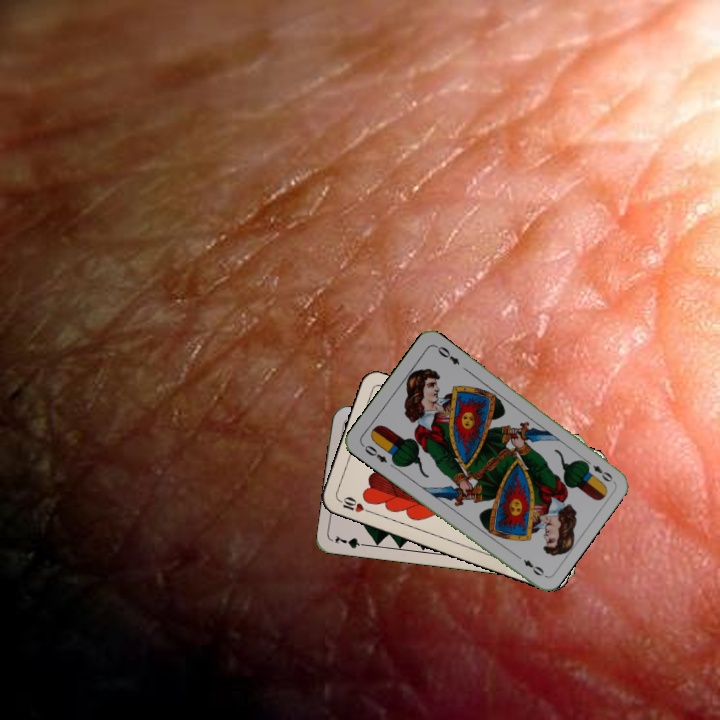EO: (580, 455, 616, 485), (358, 440, 390, 466)
G7: (331, 532, 371, 551)
H10: (335, 493, 374, 516)
